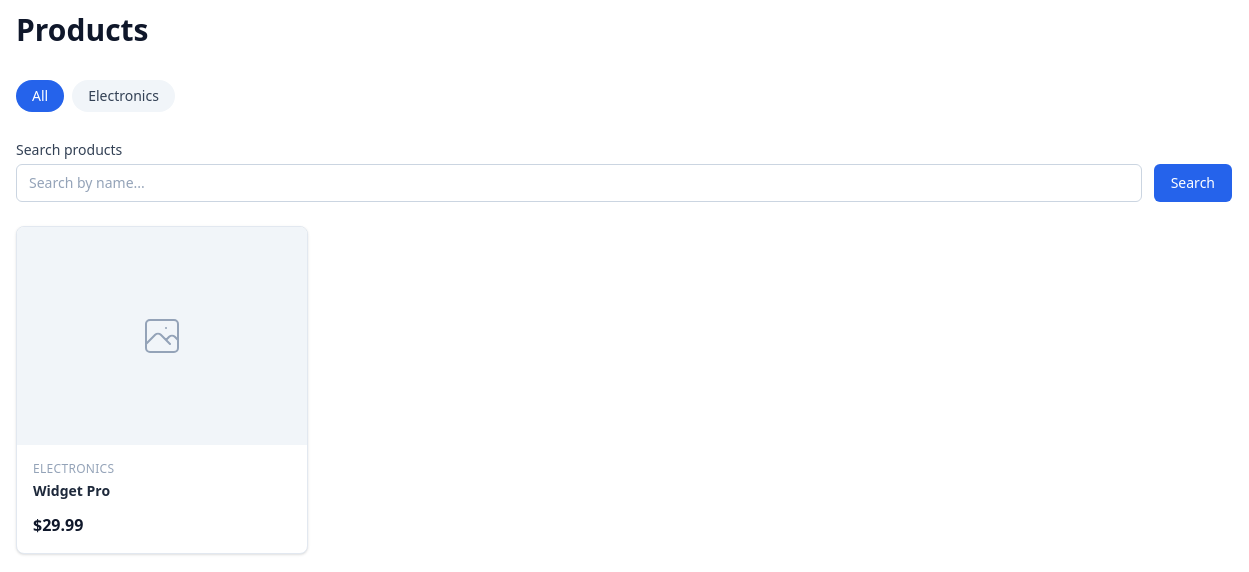
Scenario: ProductDiscovery — navigation › navigates from product list to product details page
Note: Click the product card link — ProductCard renders product.name in an anchor
Click the link "Widget Pro" at (72, 490), box [33,480,110,500]
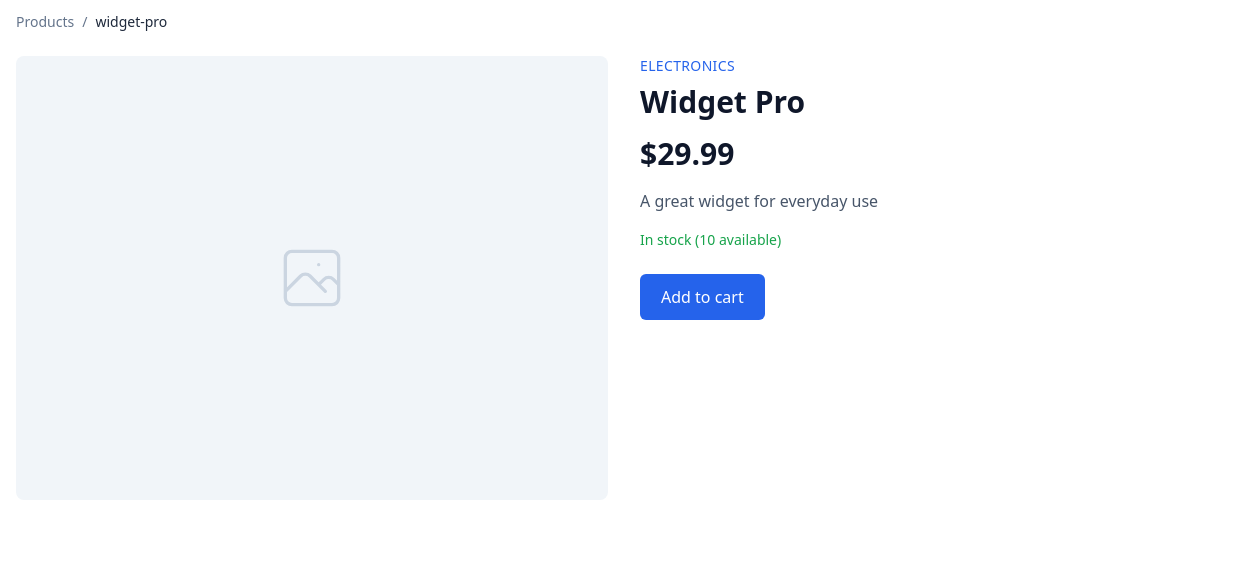
Check: the text "A great widget for everyday use" is shown, box [640,190,878,212]
